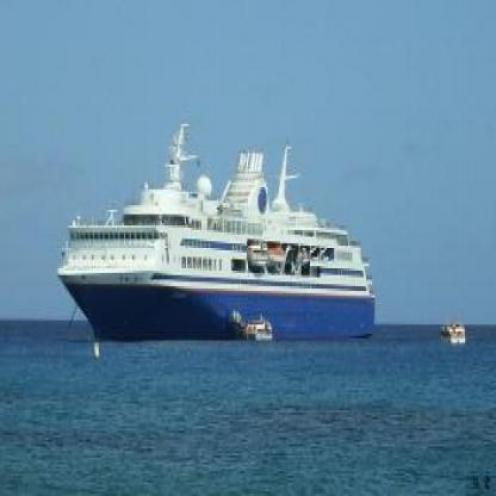Ship: (43, 140, 390, 340)
